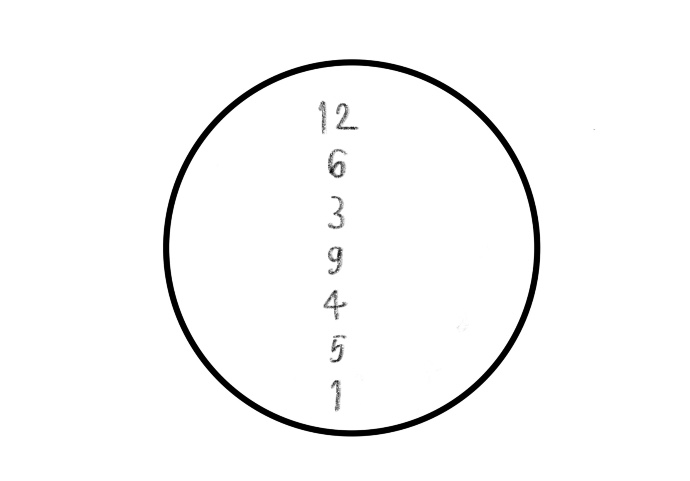five: (328, 329, 347, 366)
four: (322, 289, 347, 321)
nine: (323, 242, 346, 277)
one: (329, 377, 344, 415)
six: (324, 145, 350, 184)
three: (327, 191, 348, 232)
twelve: (315, 99, 360, 135)
